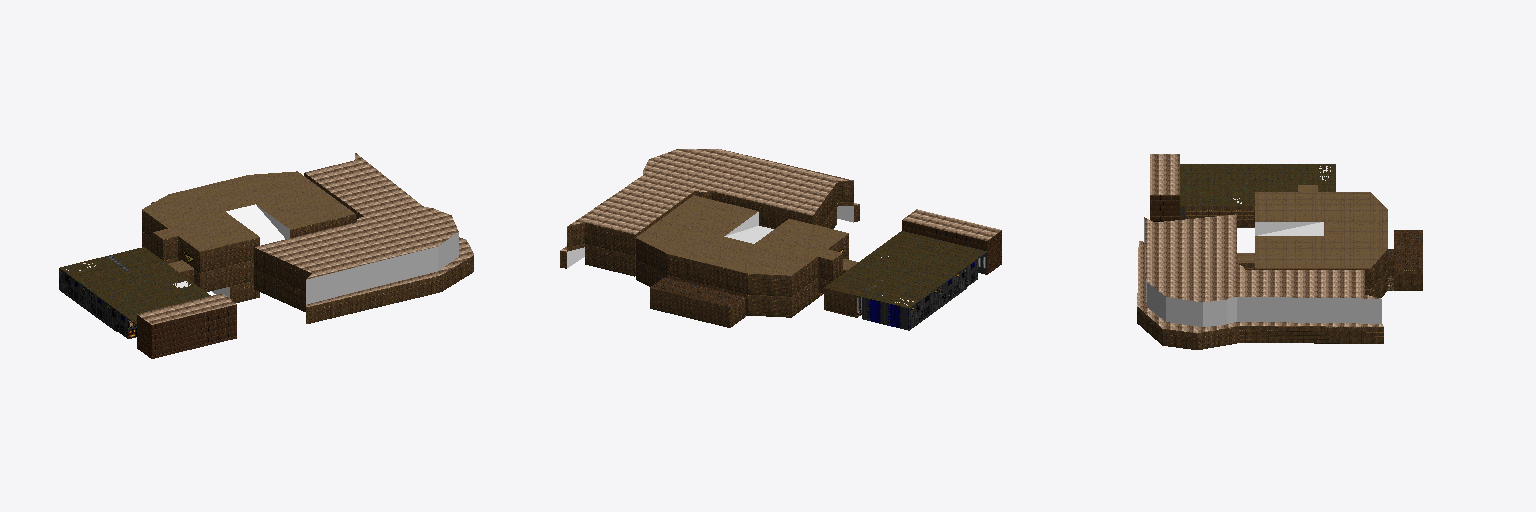
3 views of the same model, side by side, from view 1: azimuth 30°, elevation 25°; view 2: azimuth 150°, elevation 25°; view 3: azimuth 270°, elevation 25° (orthographic).
Visible parts, largest first — view 1: MAP02; view 2: MAP02; view 3: MAP02.
Part boxes in pixels (left/top/right/bottom): MAP02: left=59, top=153, right=473, bottom=358; MAP02: left=560, top=149, right=1001, bottom=330; MAP02: left=1137, top=154, right=1422, bottom=349.
Size of the model in its own units: 216 by 36.8 by 158.
Materials: 41 (36 with a texture image).